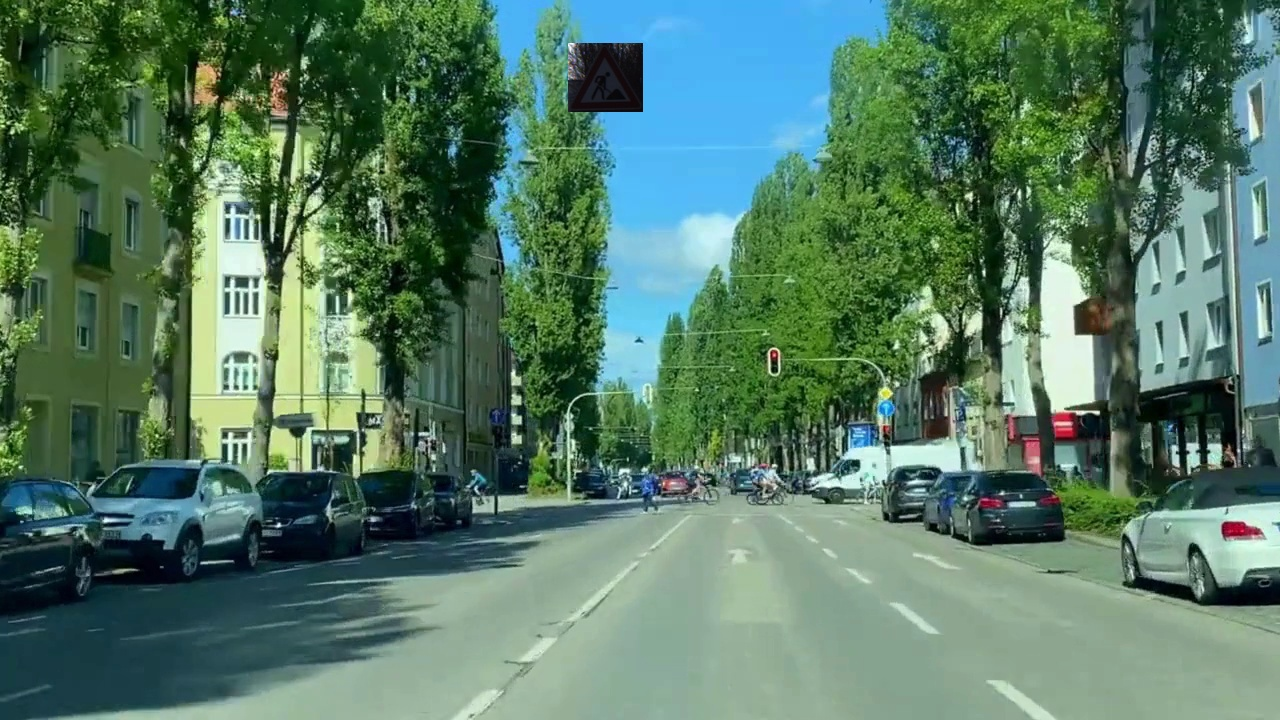Road work: (568, 43, 643, 112)
